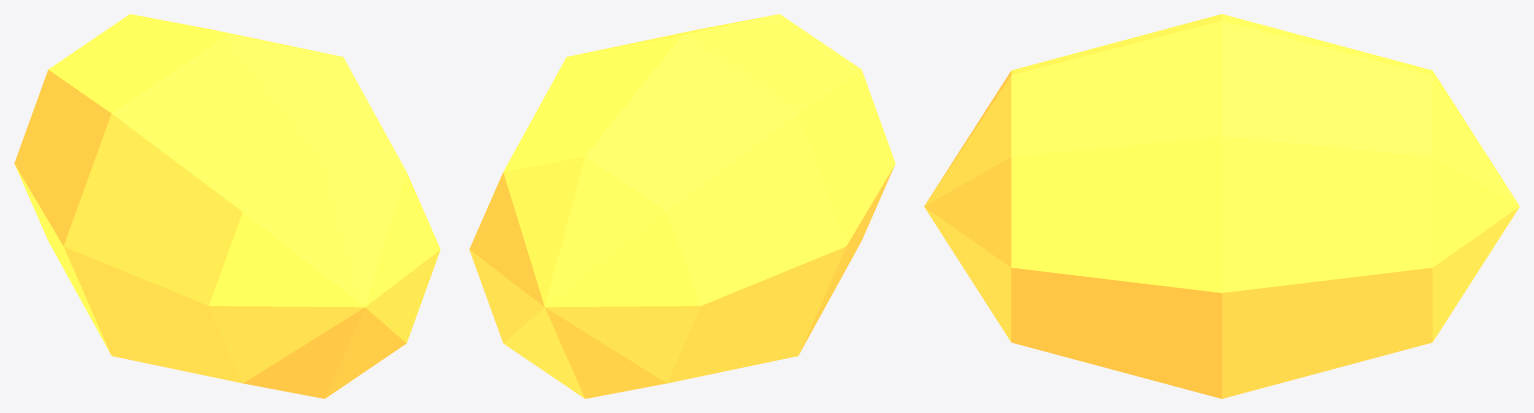
File: fire_bolt.glb
The picture shows the model from 3 angles, left to right: view 1: azimuth 30°, elevation 25°; view 2: azimuth 150°, elevation 25°; view 3: azimuth 270°, elevation 25°; orthographic projection. The views are drawn at different scales.
Visible parts, largest first — view 1: fire_bolt; view 2: fire_bolt; view 3: fire_bolt.
Boxes of the visible parts, x1,y1,x2,y2 form: fire_bolt: [14, 14, 440, 398]; fire_bolt: [469, 14, 895, 398]; fire_bolt: [924, 14, 1519, 398].
Size of the model in its own units: 0.22 by 0.22 by 0.32.
